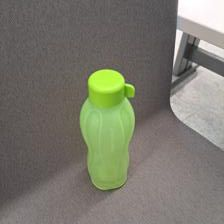bottle: (81, 66, 135, 195)
